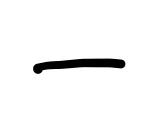minus: (33, 57, 125, 73)
